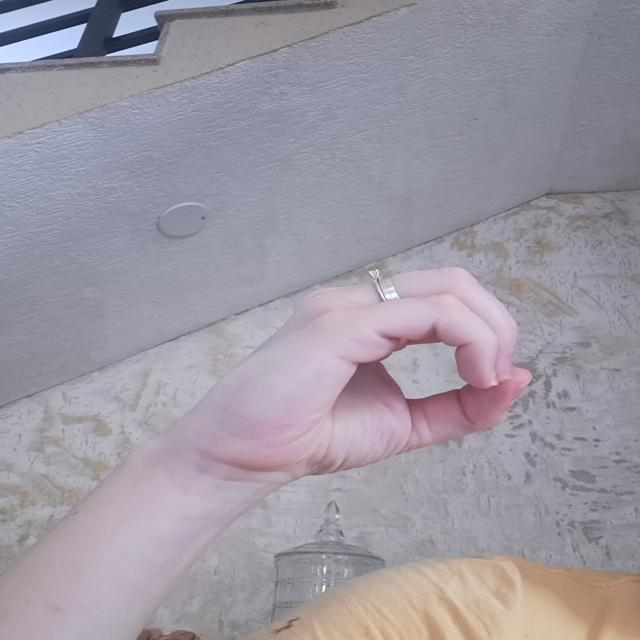O: (196, 257, 539, 478)
